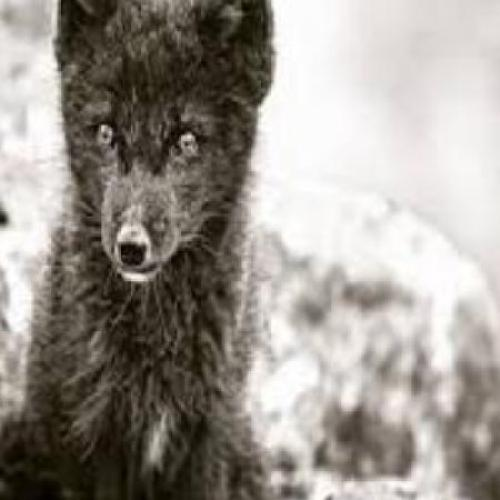arctic_fox-endangered: (0, 0, 278, 499)
